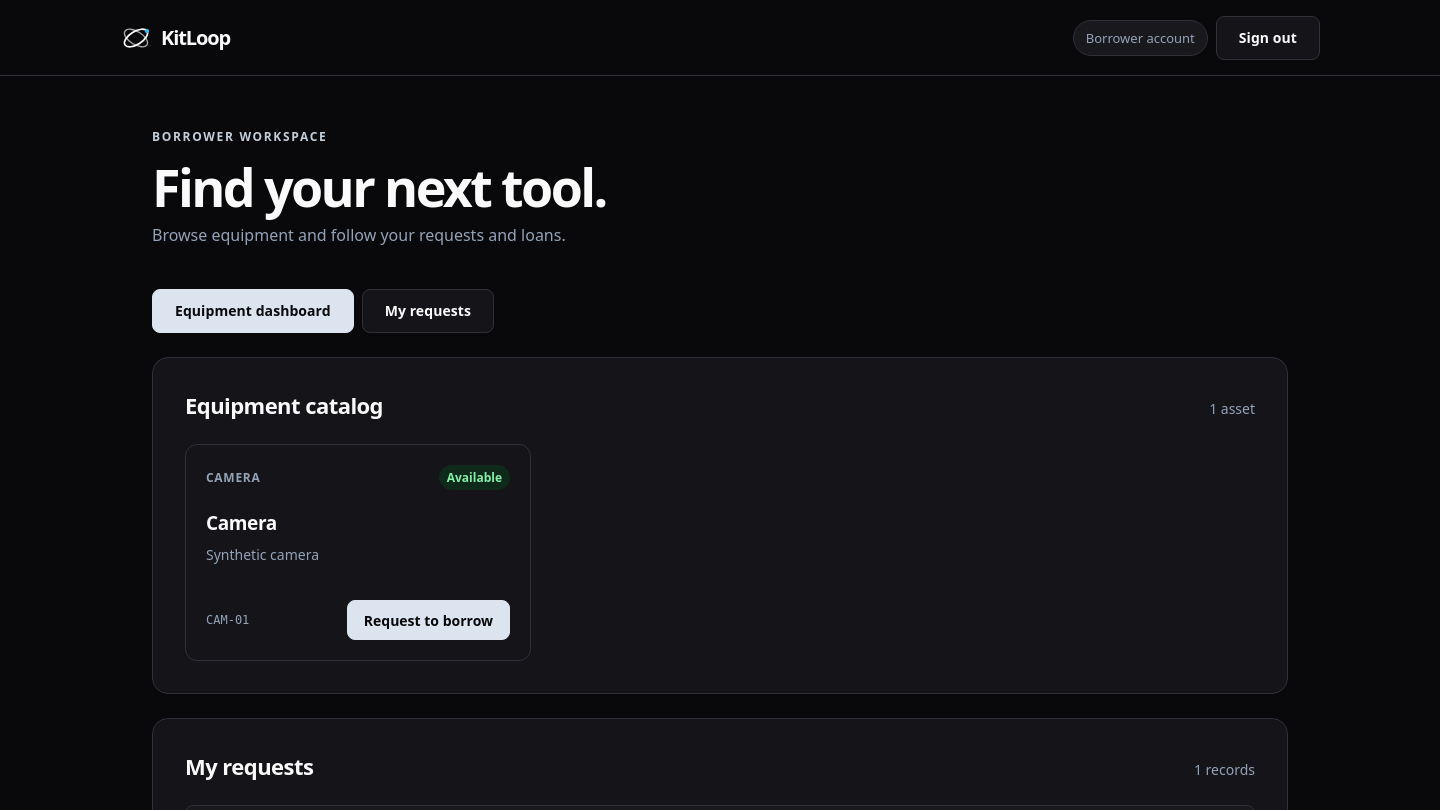
it: Borrower workflow integration in the React app (mocked HTTP) › lets a different borrower select the same available asset when their own history has no pending request
The image size is (1440, 810).
Click the button with aria-label "Request to borrow Camera, CAM-01" at (428, 620), box x1=347 y1=600 x2=510 y2=640
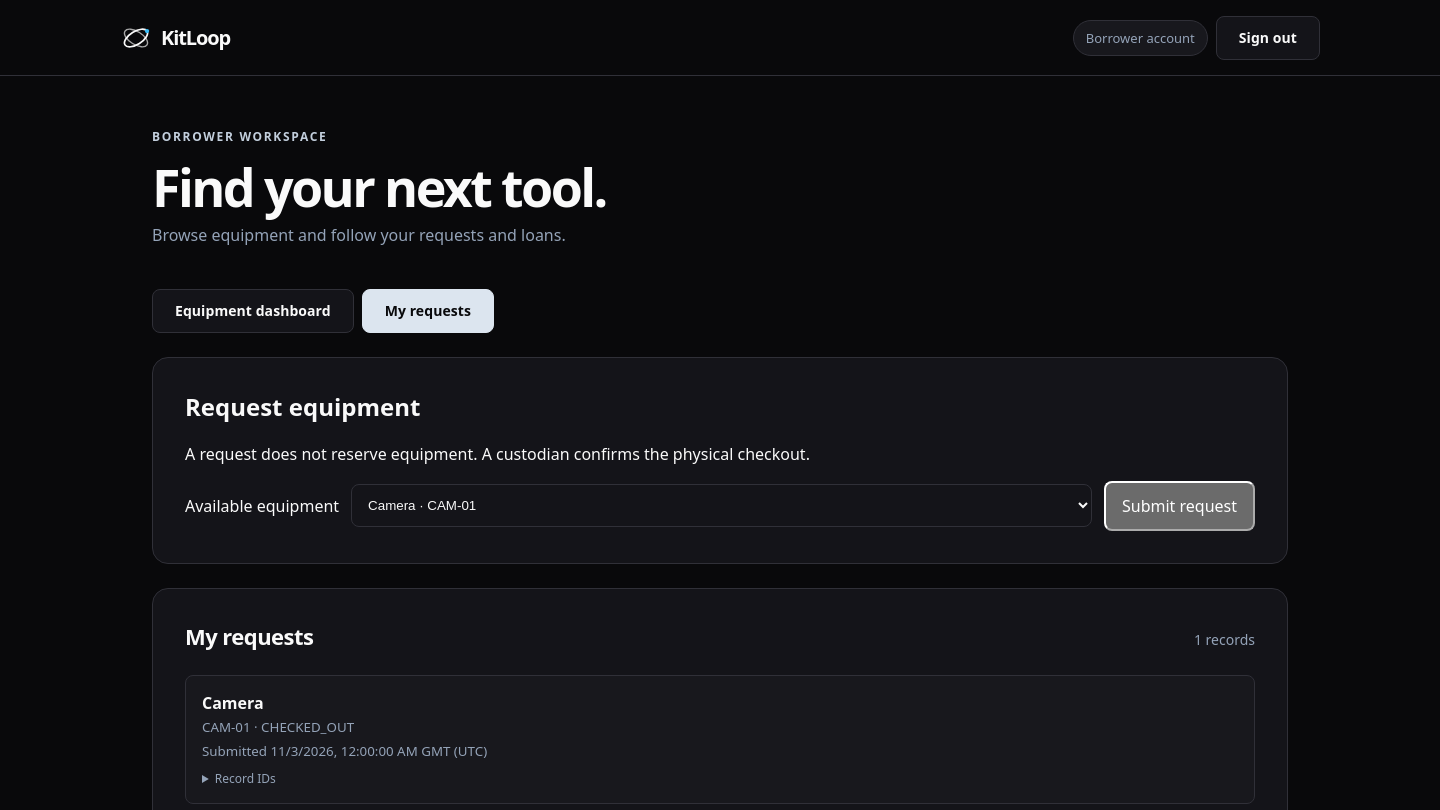
Result: the dropdown labelled "Available equipment" shows "Camera · CAM-01" at x1=351 y1=484 x2=1092 y2=527
